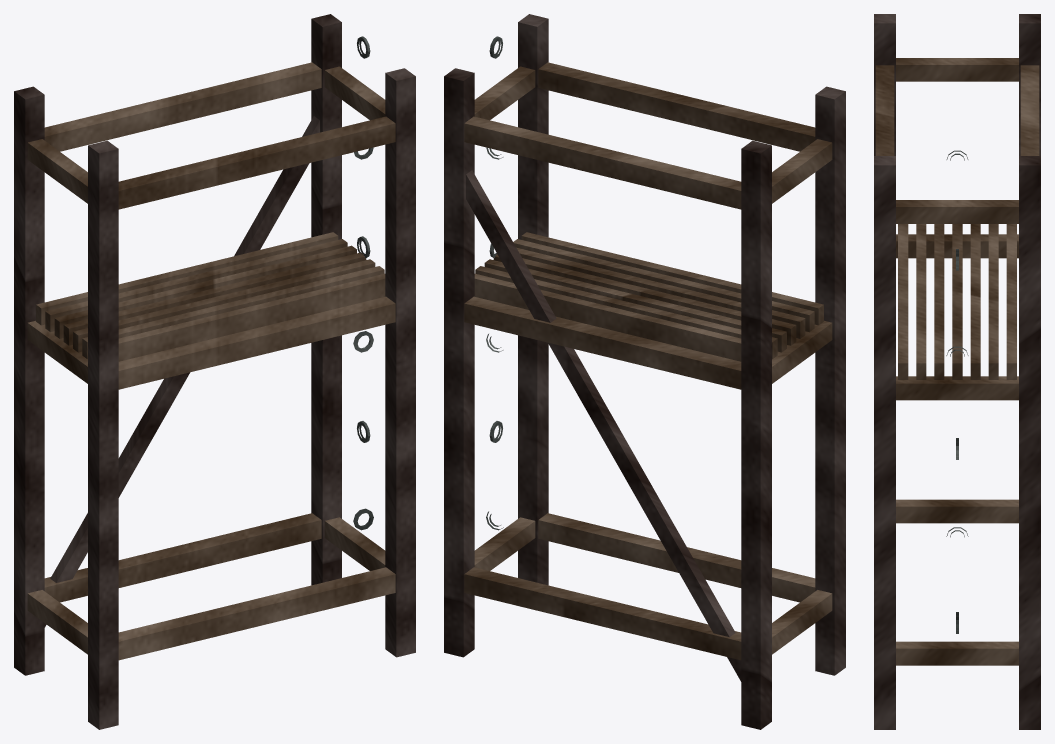
The model's file is 0450_scaffolding_25.glb.
The picture shows the model from 3 angles, left to right: view 1: azimuth 30°, elevation 25°; view 2: azimuth 150°, elevation 25°; view 3: azimuth 270°, elevation 25°; orthographic projection. The views are drawn at different scales.
Parts seen in each view (by area): view 1: wood_dark, wood, iron; view 2: wood_dark, wood, iron; view 3: wood, wood_dark, iron.
Boxes of the visible parts, x1=… form: wood_dark: x1=14, y1=14, x2=415, y2=729; wood: x1=27, y1=62, x2=395, y2=660; iron: x1=353, y1=36, x2=373, y2=530; wood_dark: x1=444, y1=14, x2=845, y2=729; wood: x1=464, y1=62, x2=832, y2=660; iron: x1=486, y1=36, x2=503, y2=530; wood: x1=875, y1=58, x2=1039, y2=665; wood_dark: x1=874, y1=14, x2=1040, y2=729; iron: x1=946, y1=150, x2=968, y2=633.
Size of the model in its own units: 2.12 by 3.76 by 0.9897.
3 materials, 3 textured.
